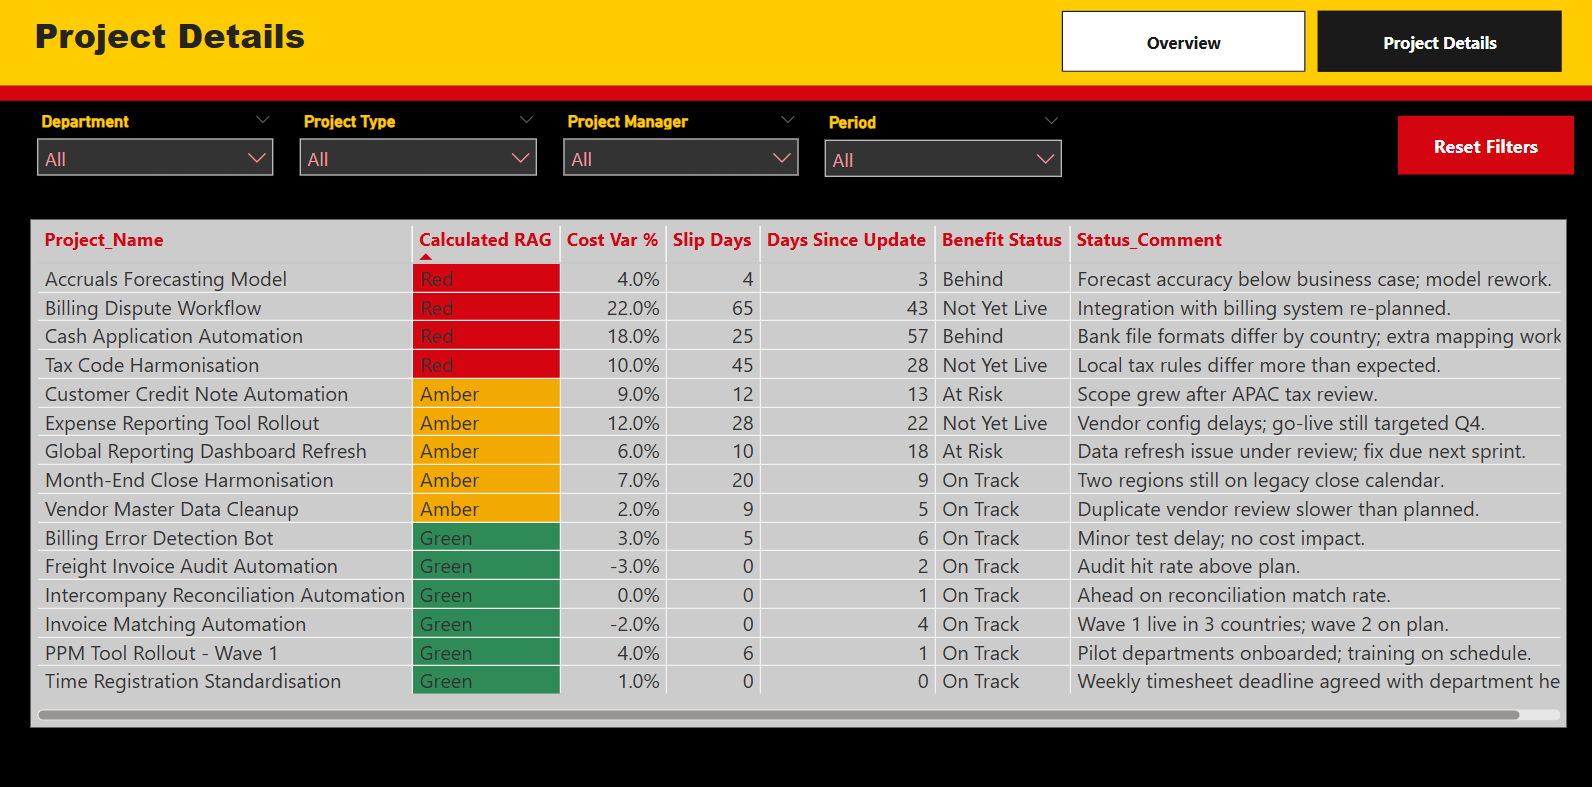

The page's visual inventory and layout, read from the dashboard file:
{"tool":"powerbi","page":{"name":"Project Details","canvas":[1280,720],"ordinal":1},"visuals":[{"type":"shape","box":[0,0,1280.3,70.6],"z":0},{"type":"shape","box":[0,70.6,1280.3,12.6],"z":1000},{"type":"textbox","box":[24,6.3,688.7,70.6],"z":2000},{"type":"slicer","fields":{"Values":["Projects.Department"]},"box":[20.6,85.7,210.6,58],"z":3000},{"type":"slicer","fields":{"Values":["Projects.Project_Type"]},"box":[231.2,85.7,210.6,58],"z":4000},{"type":"slicer","fields":{"Values":["Projects.Project_Manager"]},"box":[441.8,85.7,209.4,58],"z":5000},{"type":"slicer","fields":{"Values":["DateTable.Month Name"]},"box":[651.2,86.9,210.6,58],"z":6000},{"type":"tableEx","fields":{"Values":["Projects.Project_Name","Projects.Calculated RAG","Projects.Cost Var %","Projects.Slip Days","Projects.Days Since Update","Projects.Benefit Status","Projects.Status_Comment"]},"box":[25.6,178.1,1228.9,406.3],"z":7000},{"type":"pageNavigator","box":[851,10.6,400.6,49.9],"z":8000},{"type":"actionButton","box":[1120.1,95.2,140.6,46.9],"z":8001}]}

Visuals, with their boxes on the page's 1280x720 design canvas (x1, y1, x2, y2). These are canvas units, not pixel positions in the 1592x787 screenshot, which may show the page scaled, cropped or inside an application window:
shape: <region>0, 0, 1280, 71</region>
shape: <region>0, 71, 1280, 83</region>
textbox: <region>24, 6, 713, 77</region>
slicer - Projects.Department: <region>21, 86, 231, 144</region>
slicer - Projects.Project_Type: <region>231, 86, 442, 144</region>
slicer - Projects.Project_Manager: <region>442, 86, 651, 144</region>
slicer - DateTable.Month Name: <region>651, 87, 862, 145</region>
tableEx - Projects.Project_Name x Projects.Calculated RAG: <region>26, 178, 1254, 584</region>
pageNavigator: <region>851, 11, 1252, 60</region>
actionButton: <region>1120, 95, 1261, 142</region>
